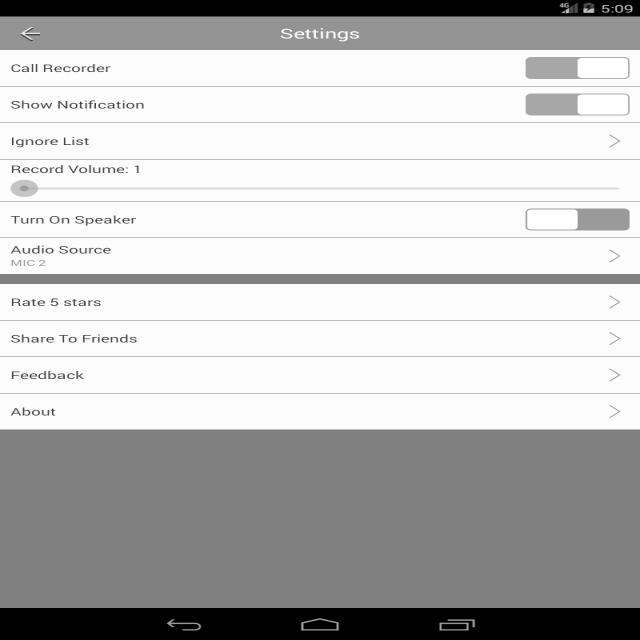ImageButton: (16, 25, 46, 43)
SeekBar: (6, 175, 629, 199)
Switch: (520, 90, 635, 118), (520, 205, 635, 232), (521, 55, 635, 81)
TextView: (4, 210, 144, 230), (7, 60, 120, 78), (274, 24, 364, 44), (6, 242, 116, 258), (5, 133, 94, 149), (3, 368, 93, 382)
